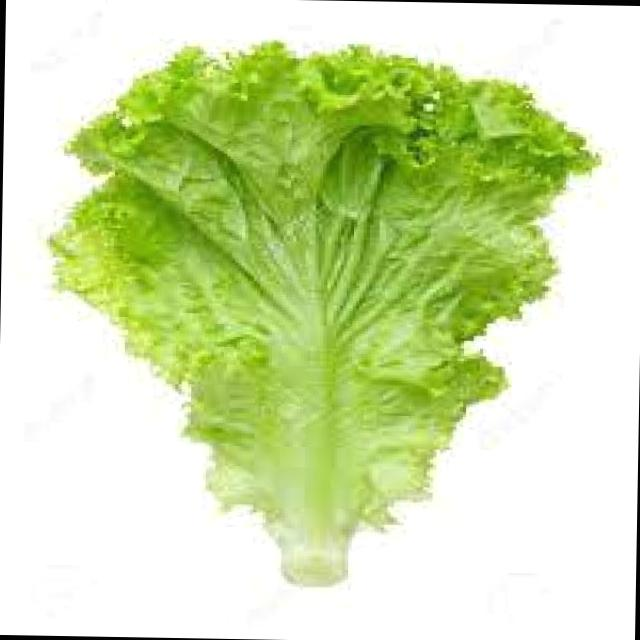Lettuce-Ready-to-Harvest: (53, 43, 594, 583)
